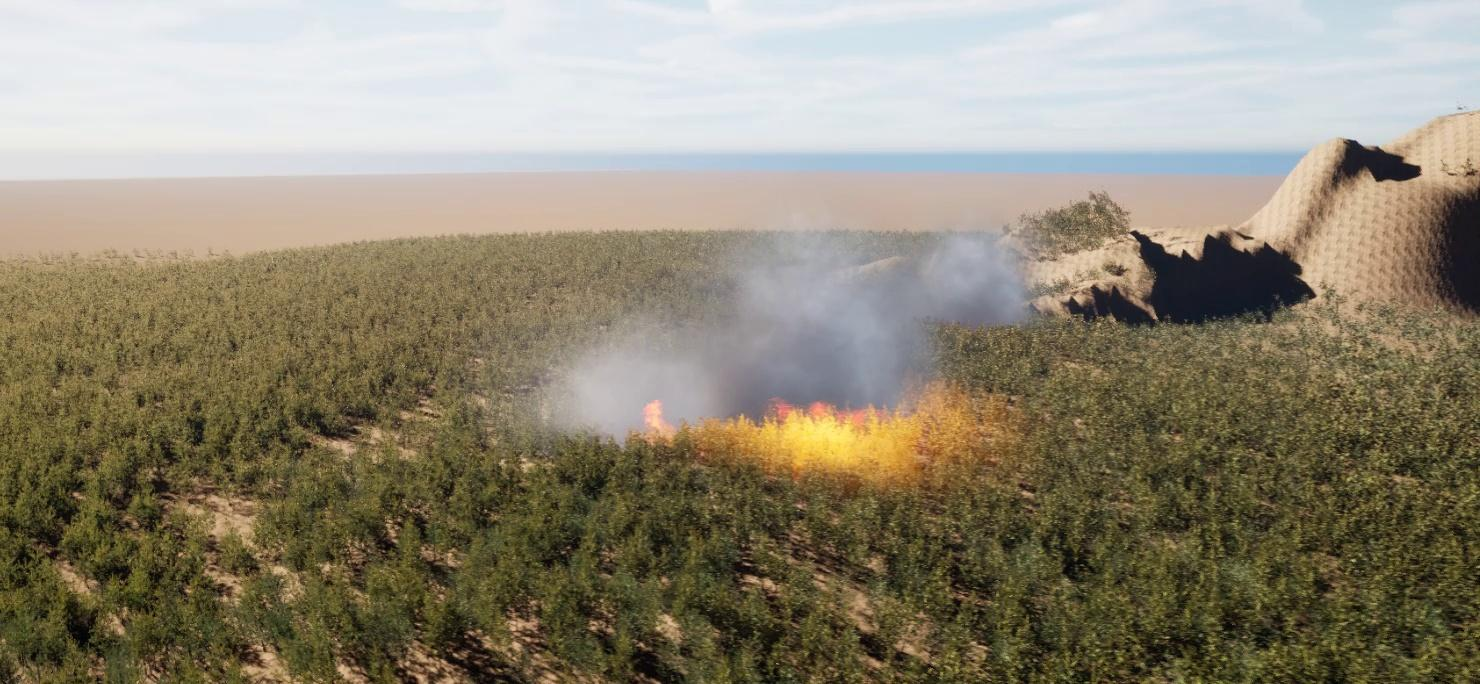fire: (633, 394, 978, 477)
smoke: (522, 215, 1030, 454)
